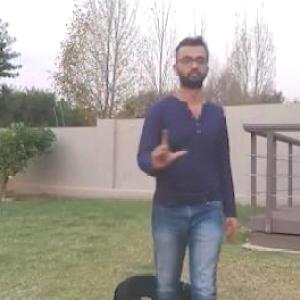land_hand: (149, 125, 193, 169)
